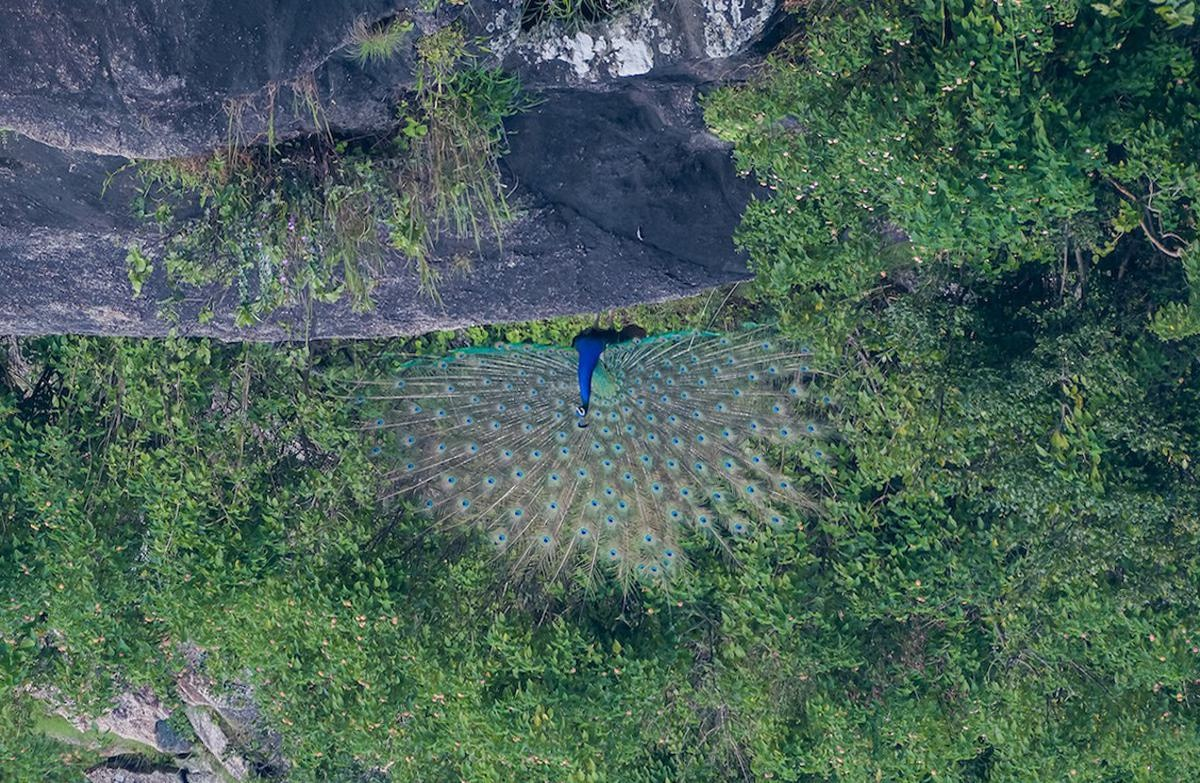peacock: (370, 314, 910, 602)
